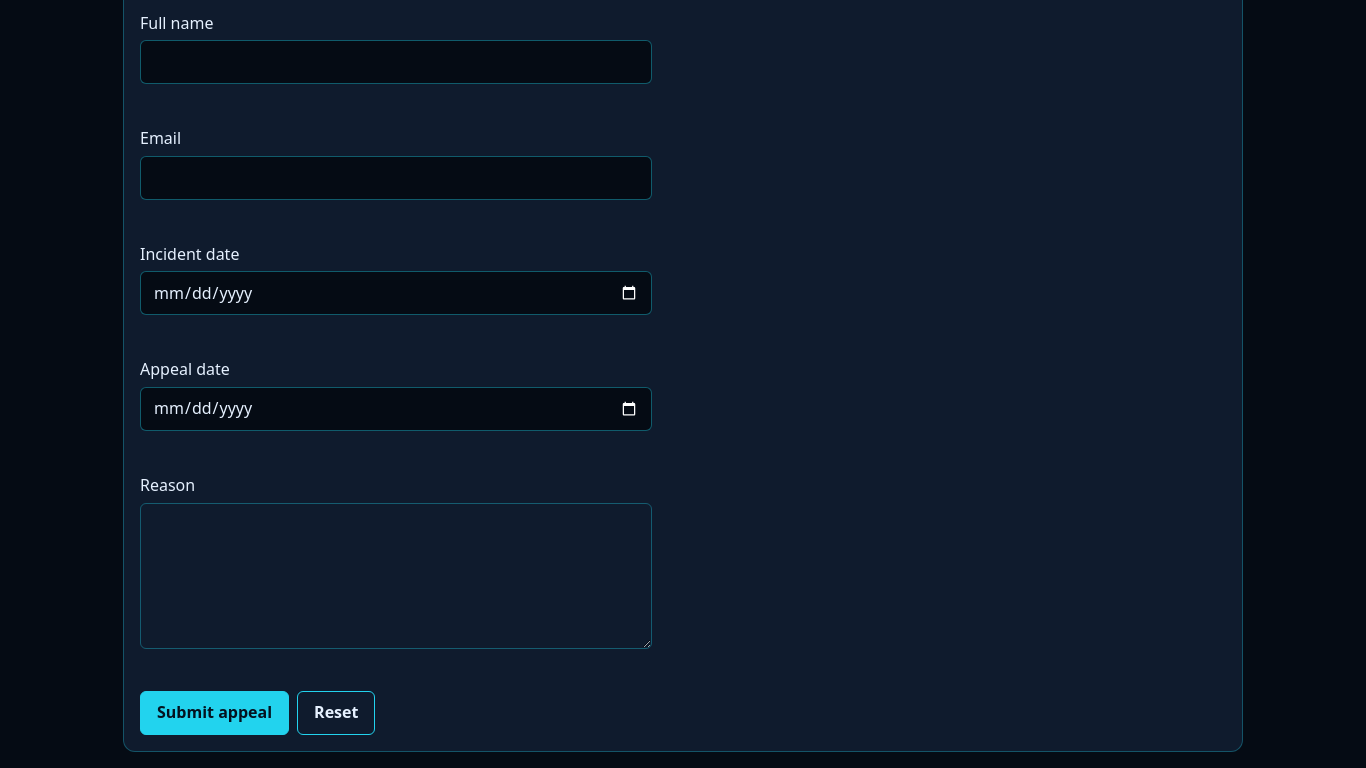
Scenario: AppealForm submit › blocks an invalid submit, shows every error and does not call the API
The image size is (1366, 768).
(page scrolled)
Expected: the field labelled "Full name" is shown, top-left (140, 40), bottom-right (652, 84)
What coordinates should you click on to do the following:
click the button "Submit appeal"
I would click on:
 (215, 712)
Its box is top-left (140, 690), bottom-right (289, 734).
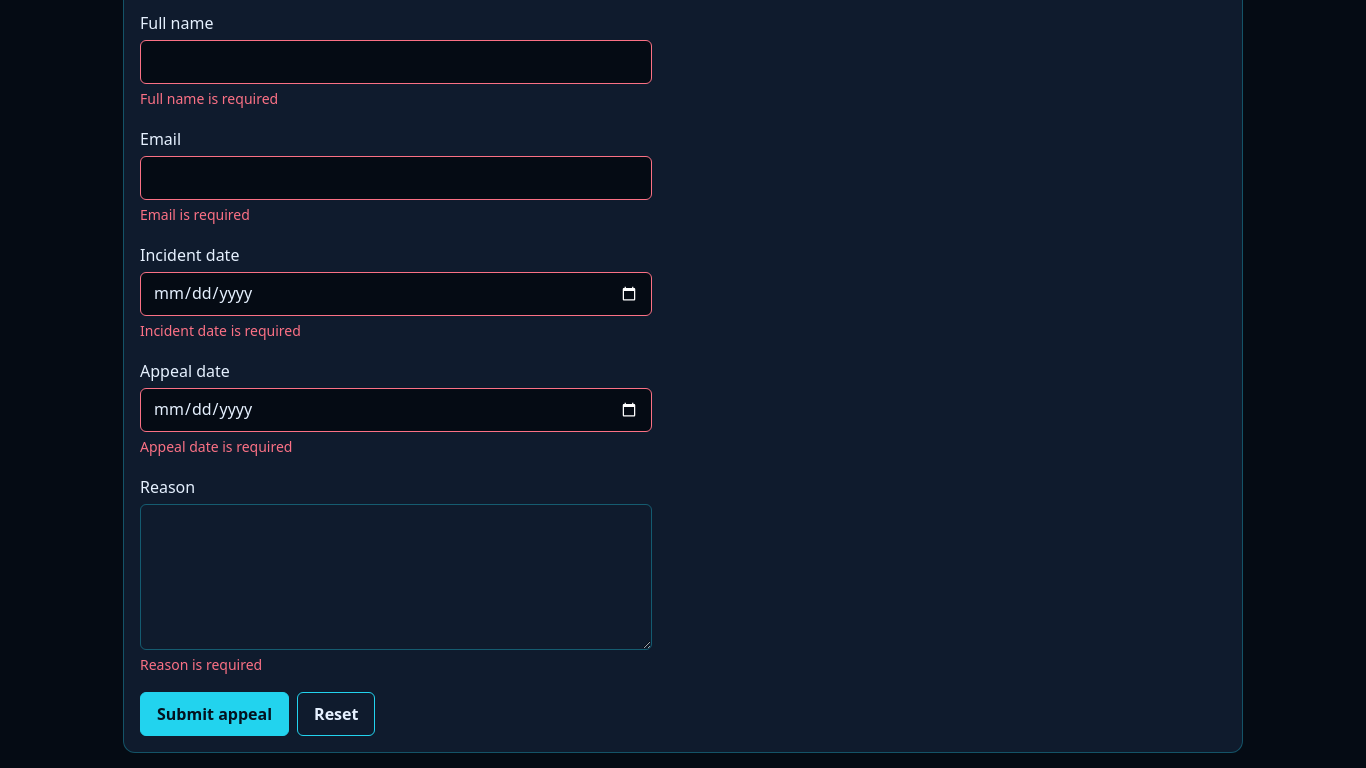
Result: the number of messages is 5 at top-left (140, 89), bottom-right (278, 108); top-left (140, 205), bottom-right (250, 224); top-left (140, 321), bottom-right (301, 340); top-left (140, 437), bottom-right (292, 456); top-left (140, 655), bottom-right (262, 674)
